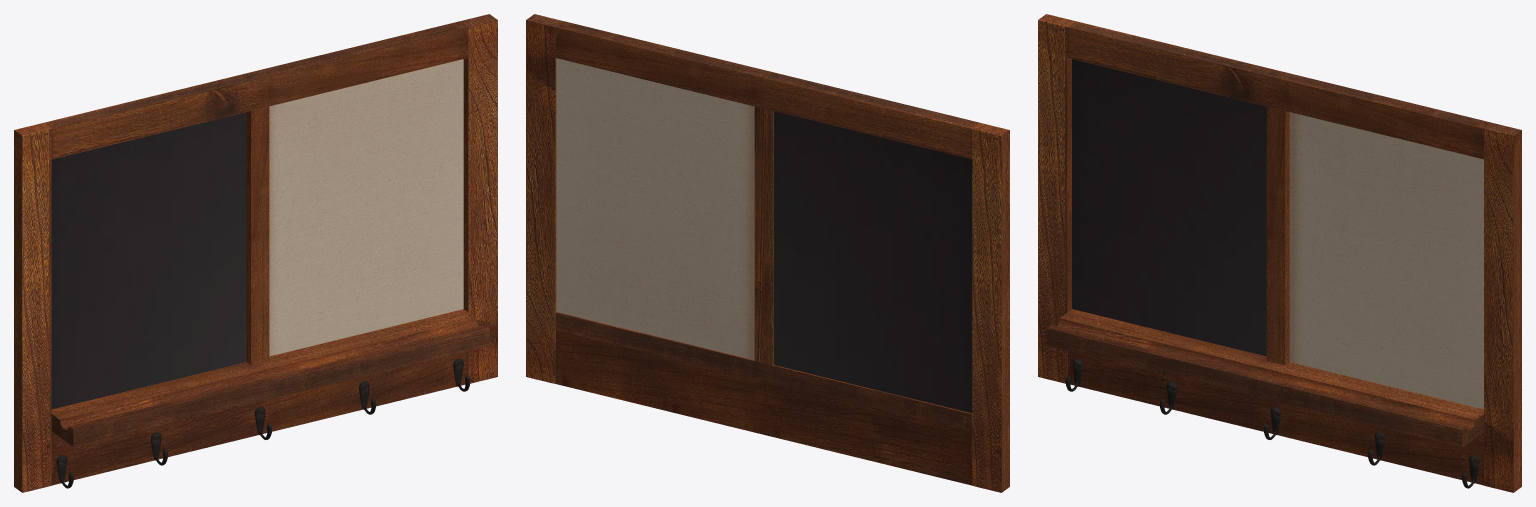
File: B07B8WZQMM.glb
The picture shows the model from 3 angles, left to right: view 1: azimuth 30°, elevation 25°; view 2: azimuth 150°, elevation 25°; view 3: azimuth 330°, elevation 25°; orthographic projection.
Visible parts, largest first — view 1: RootNode; view 2: RootNode; view 3: RootNode.
Boxes of the visible parts, left/top/right/bottom form: RootNode: left=14, top=14, right=497, bottom=492; RootNode: left=526, top=14, right=1009, bottom=492; RootNode: left=1038, top=14, right=1521, bottom=492.
Size of the model in its own units: 0.7681 by 0.553 by 0.0832.
1 material, 1 textured.
